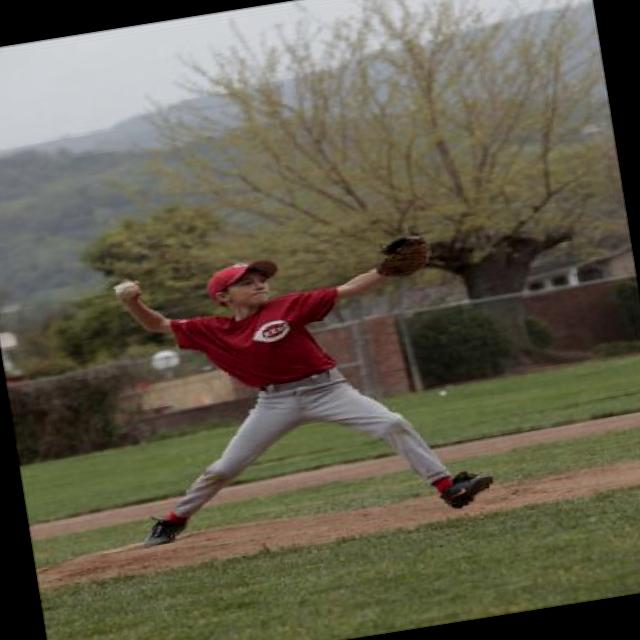Person: (104, 228, 496, 558)
